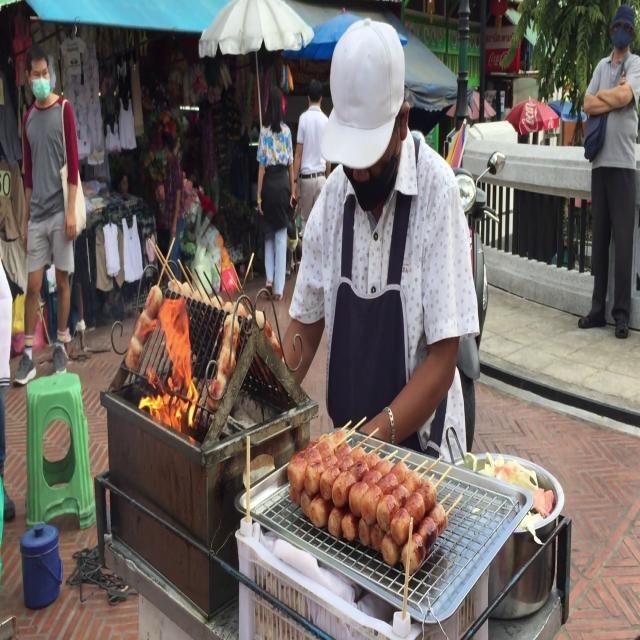Fire: (134, 300, 200, 444)
